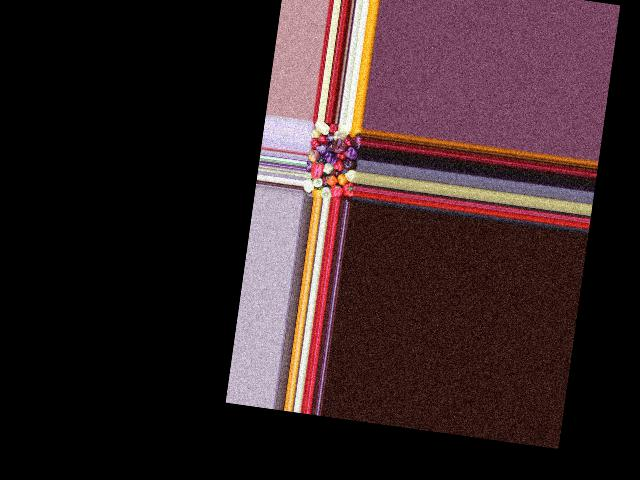bell_pepper: (321, 185, 332, 199)
